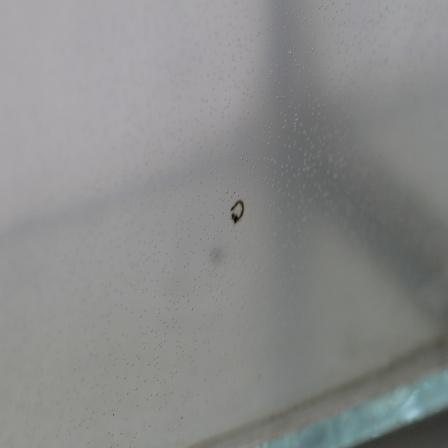Jentik-Nyamuk: (227, 192, 247, 227)
